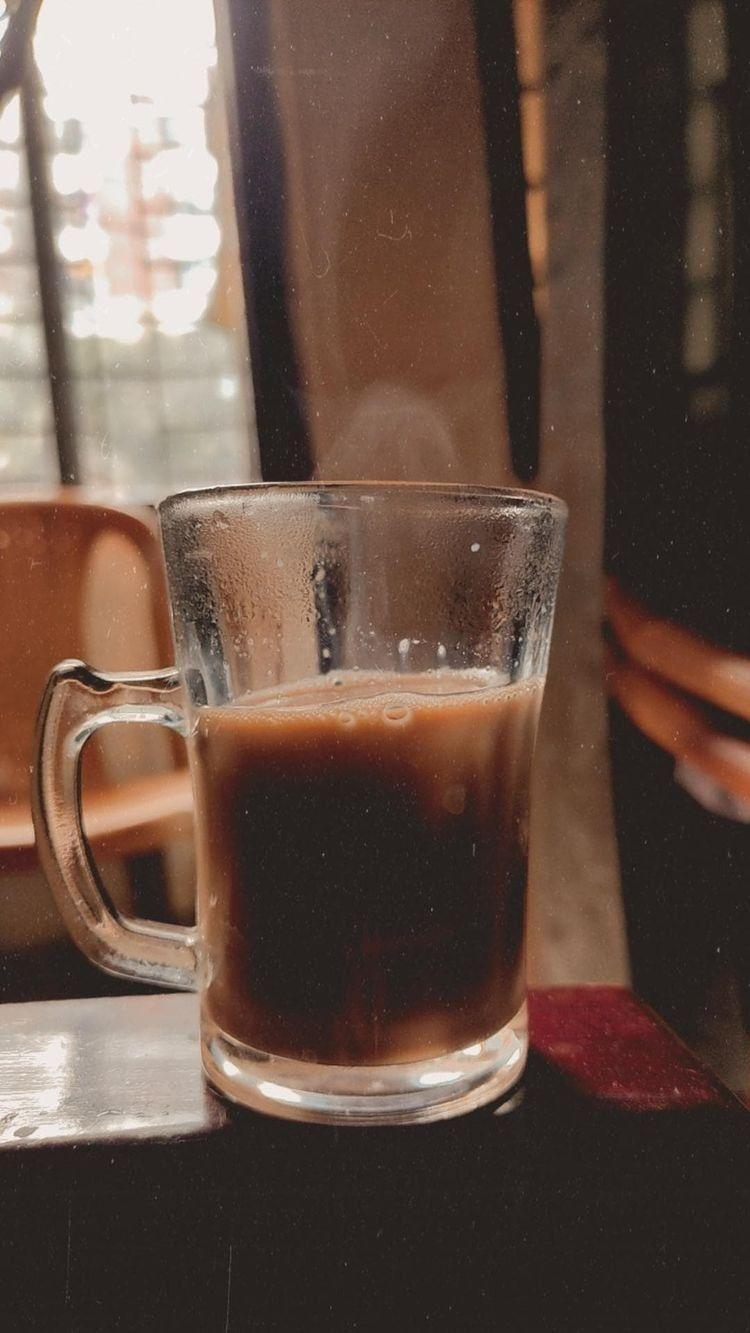glass-mug: (27, 471, 572, 1134)
